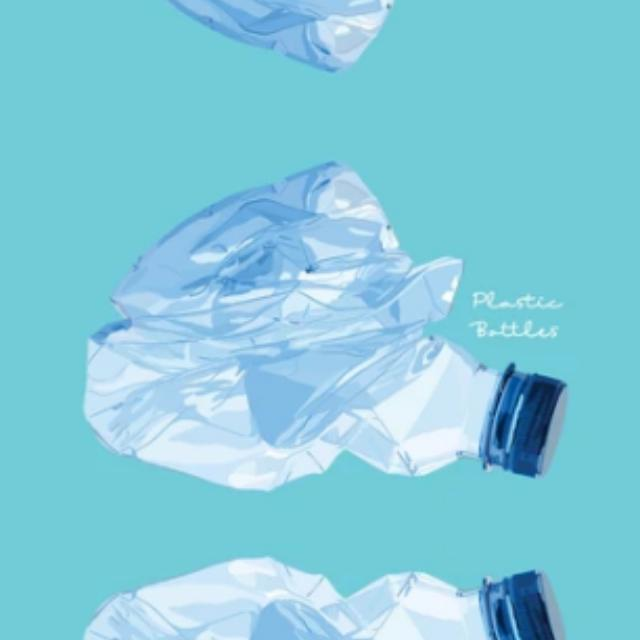Plastic: (56, 164, 594, 486), (55, 562, 594, 640), (55, 0, 594, 67)
